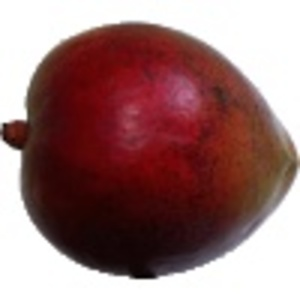manga: (1, 22, 300, 279)
